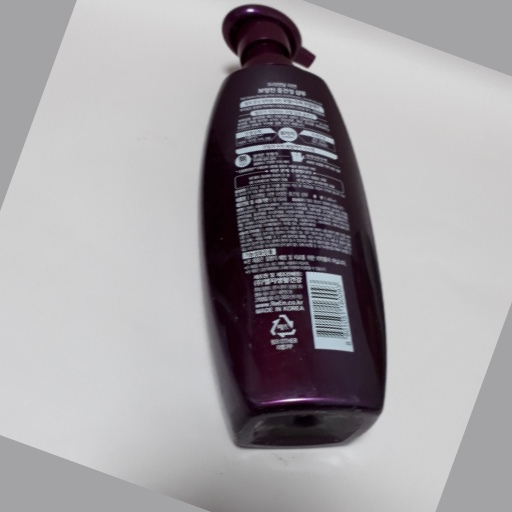Plastic_3: (194, 2, 387, 453)
